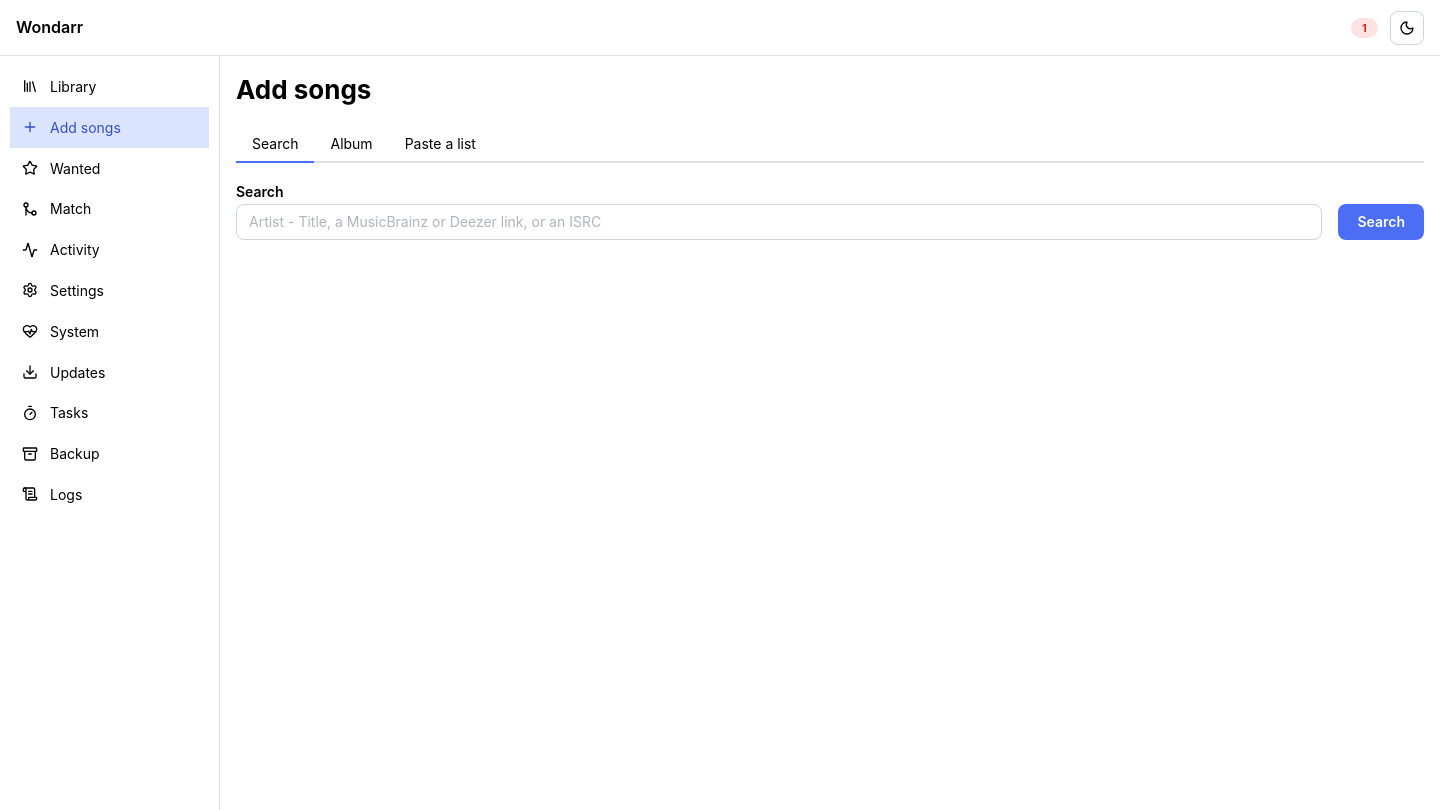
AddSongsPage › adds a candidate by its recording id and flips the row to in library
Type "Daft Punk - Get Lucky" into the field labelled "Search".
click(779, 222); type("Daft Punk - Get Lucky")  # box [236,204,1322,240]
Then press Enter
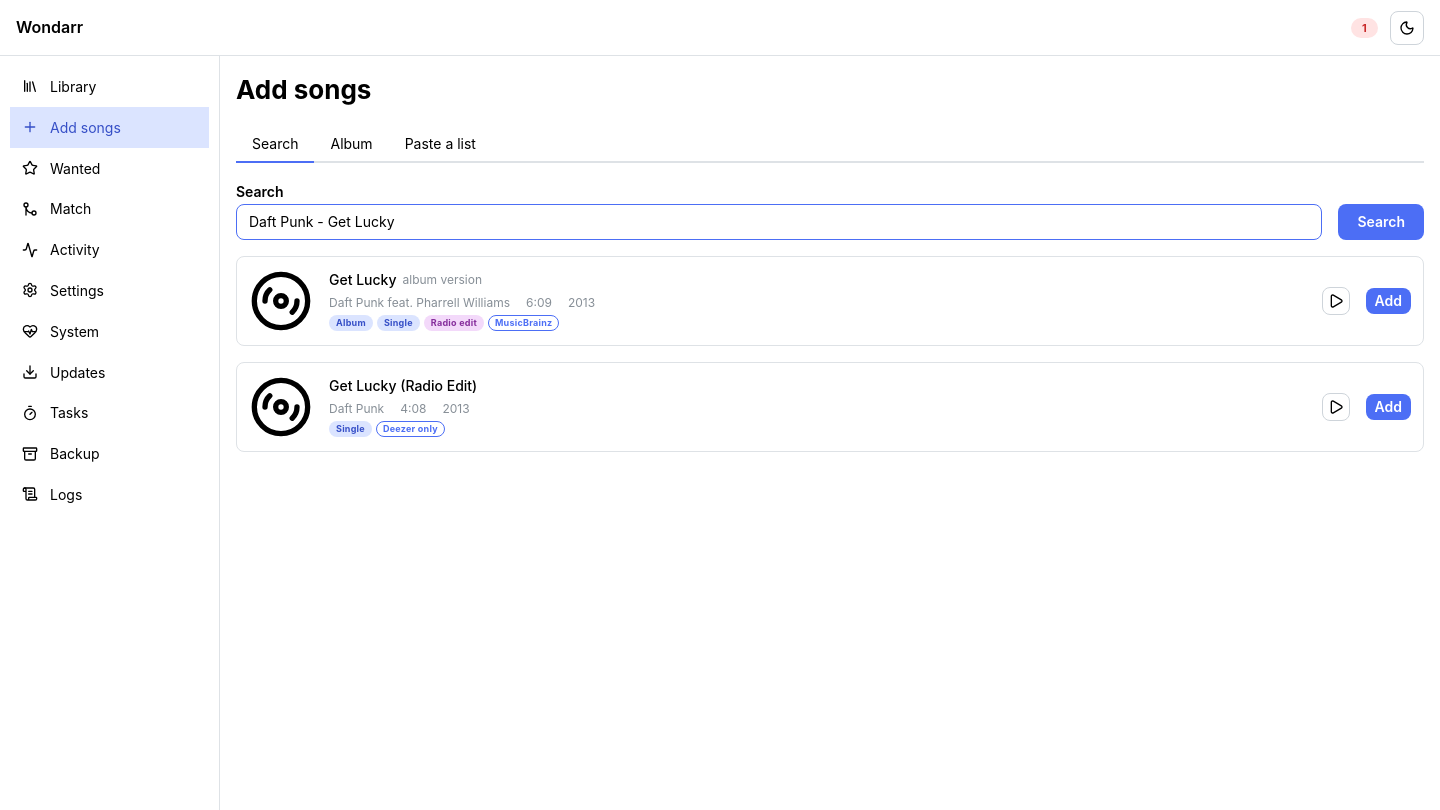
Expected: the text "album version" is shown, [402,272,482,289]
Click the button "Add" in the row of "6:09".
click(1388, 301)  # box [1366,288,1411,314]
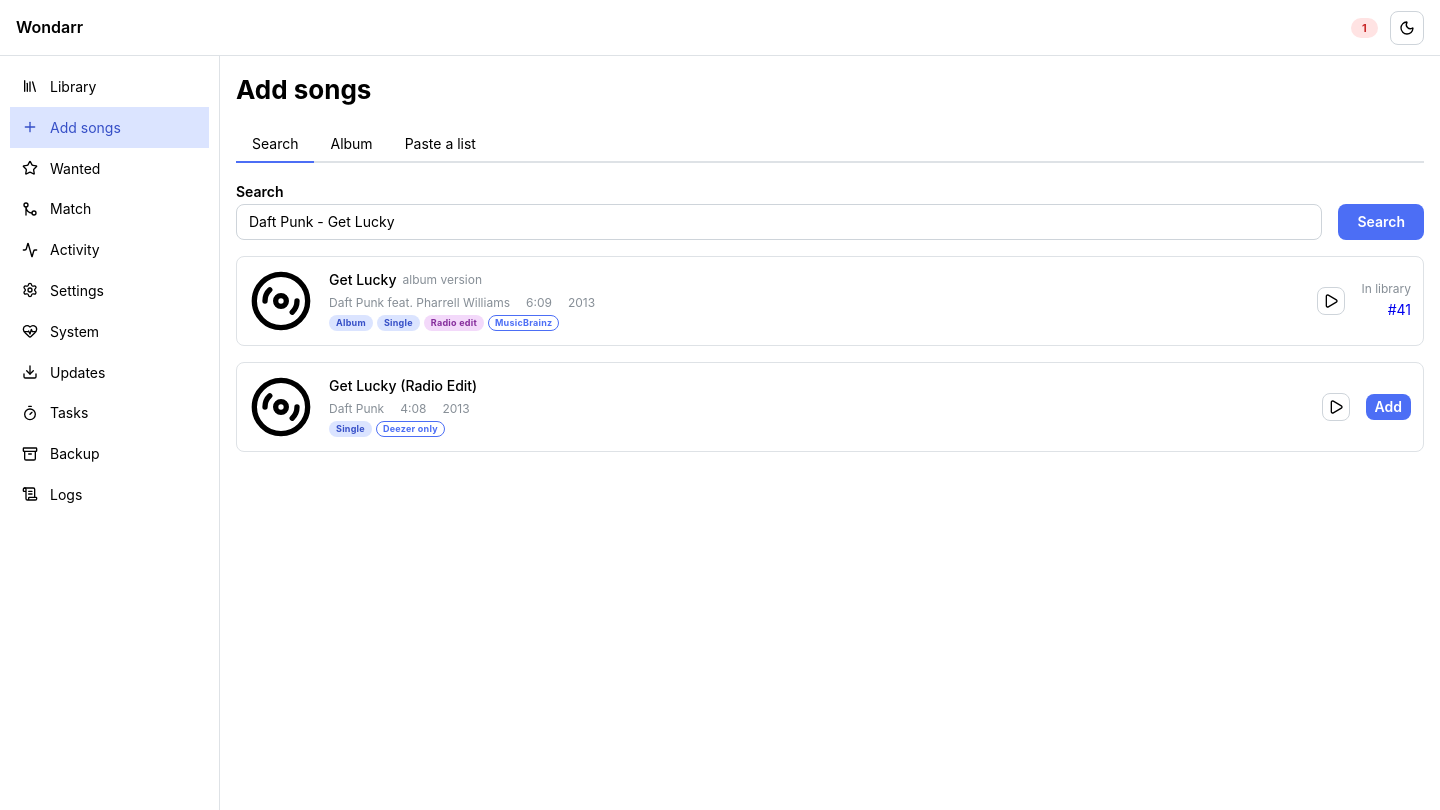
Expected: the text "In library" is shown, [1361,281,1411,298]
